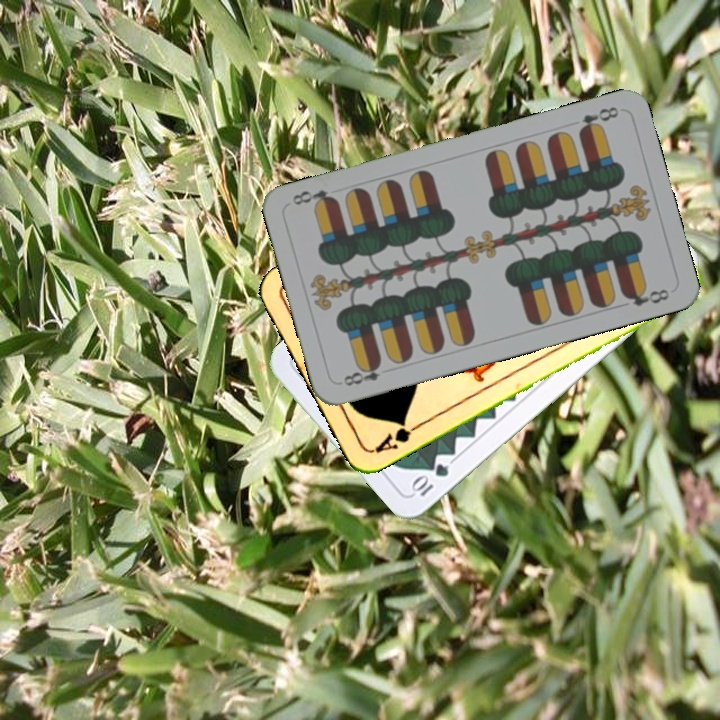E8: (574, 102, 622, 137), (339, 358, 384, 389)
G10: (407, 459, 452, 499)
GA: (369, 416, 424, 456)
